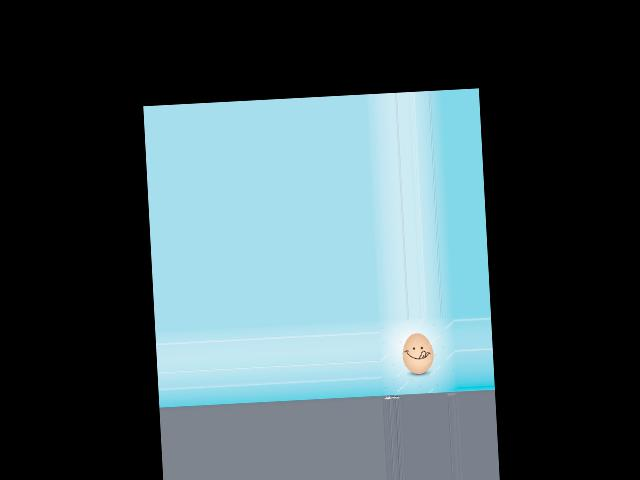egg: (401, 332, 435, 374)
